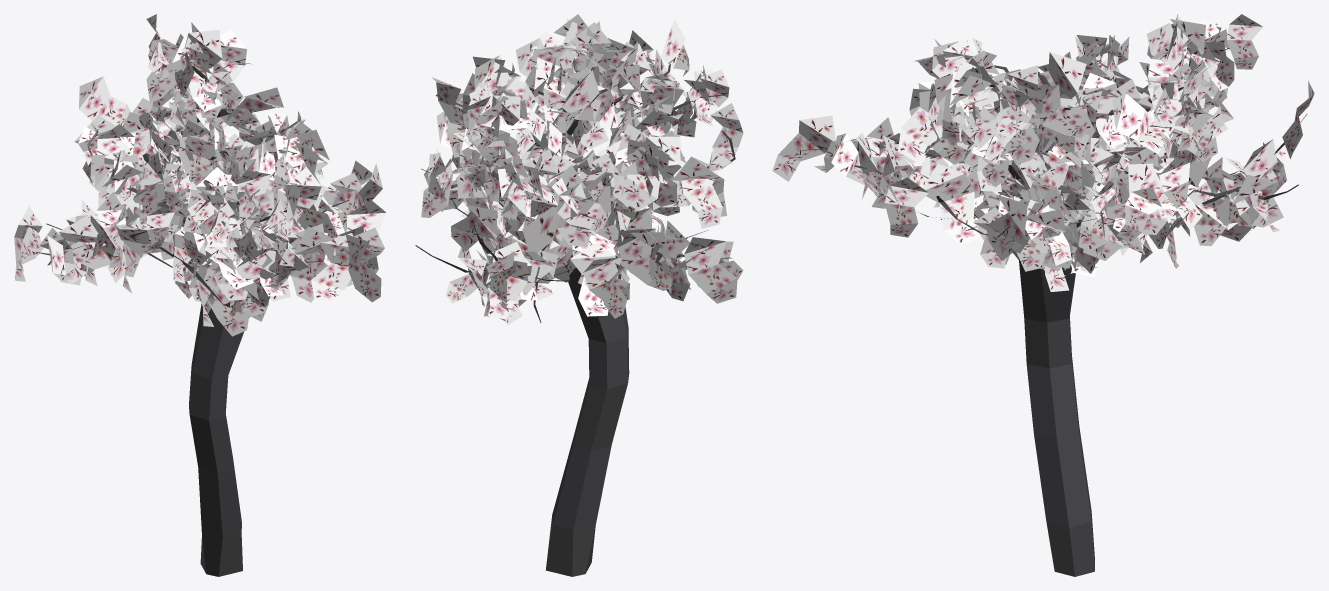
The model's file is japanfa .fbx.
3 views of the same model, side by side, from view 1: azimuth 30°, elevation 25°; view 2: azimuth 150°, elevation 25°; view 3: azimuth 270°, elevation 25° (orthographic). The views are drawn at different scales.
Visible parts, largest first — view 1: Cube, Cube|Plane|Dupli|71, Cube|Plane|Dupli|14, Cube|Plane|Dupli|72, Cube|Plane|Dupli|55, Cube|Plane|Dupli|254, Cube|Plane|Dupli|83, Cube|Plane|Dupli|267, Cube|Plane|Dupli|371, Cube|Plane|Dupli|97, Cube|Plane|Dupli|395, Cube|Plane|Dupli|67 (+37 smaller); view 2: Cube, Cube|Plane|Dupli|54, Cube|Plane|Dupli|13, Cube|Plane|Dupli|2, Cube|Plane|Dupli|84, Cube|Plane|Dupli|261, Cube|Plane|Dupli|14, Cube|Plane|Dupli|75, Plane, Cube|Plane|Dupli|239, Cube|Plane|Dupli|372, Cube|Plane|Dupli|79 (+53 smaller); view 3: Cube, Cube|Plane|Dupli|65, Cube|Plane|Dupli|72, Cube|Plane|Dupli|251, Cube|Plane|Dupli|353, Cube|Plane|Dupli|66, Cube|Plane|Dupli|286, Cube|Plane|Dupli|44, Cube|Plane|Dupli|10, Cube|Plane|Dupli|46, Cube|Plane|Dupli|399, Cube|Plane|Dupli|48 (+25 smaller).
Part boxes in pixels (bbox=[...]): Cube: bbox=[35, 63, 375, 576]; Cube|Plane|Dupli|71: bbox=[311, 233, 353, 301]; Cube|Plane|Dupli|14: bbox=[79, 76, 130, 126]; Cube|Plane|Dupli|72: bbox=[345, 234, 381, 302]; Cube|Plane|Dupli|55: bbox=[67, 214, 115, 284]; Cube|Plane|Dupli|254: bbox=[285, 167, 321, 237]; Cube|Plane|Dupli|83: bbox=[96, 192, 125, 267]; Cube|Plane|Dupli|267: bbox=[178, 120, 213, 185]; Cube|Plane|Dupli|371: bbox=[159, 30, 222, 97]; Cube|Plane|Dupli|97: bbox=[207, 289, 249, 336]; Cube|Plane|Dupli|395: bbox=[217, 30, 246, 82]; Cube|Plane|Dupli|67: bbox=[291, 223, 327, 302]; Cube: bbox=[415, 64, 735, 576]; Cube|Plane|Dupli|54: bbox=[684, 237, 737, 303]; Cube|Plane|Dupli|13: bbox=[482, 242, 527, 319]; Cube|Plane|Dupli|2: bbox=[617, 228, 665, 290]; Cube|Plane|Dupli|84: bbox=[681, 158, 722, 228]; Cube|Plane|Dupli|261: bbox=[561, 70, 614, 121]; Cube|Plane|Dupli|14: bbox=[451, 204, 496, 251]; Cube|Plane|Dupli|75: bbox=[570, 243, 618, 316]; Plane: bbox=[522, 206, 572, 253]; Cube|Plane|Dupli|239: bbox=[621, 130, 686, 209]; Cube|Plane|Dupli|372: bbox=[474, 55, 536, 109]; Cube|Plane|Dupli|79: bbox=[710, 103, 743, 163]; Cube: bbox=[799, 48, 1307, 576]; Cube|Plane|Dupli|65: bbox=[922, 163, 980, 245]; Cube|Plane|Dupli|72: bbox=[772, 115, 835, 181]; Cube|Plane|Dupli|251: bbox=[898, 81, 942, 163]; Cube|Plane|Dupli|353: bbox=[1112, 93, 1172, 159]; Cube|Plane|Dupli|66: bbox=[884, 177, 928, 237]; Cube|Plane|Dupli|286: bbox=[1035, 84, 1092, 138]; Cube|Plane|Dupli|44: bbox=[986, 195, 1028, 261]; Cube|Plane|Dupli|10: bbox=[1194, 157, 1229, 246]; Cube|Plane|Dupli|46: bbox=[1128, 163, 1202, 230]; Cube|Plane|Dupli|399: bbox=[1226, 14, 1262, 69]; Cube|Plane|Dupli|48: bbox=[1116, 187, 1161, 241].
Size of the model in its own units: 970 by 1443 by 1264.
2 materials, 1 textured.
